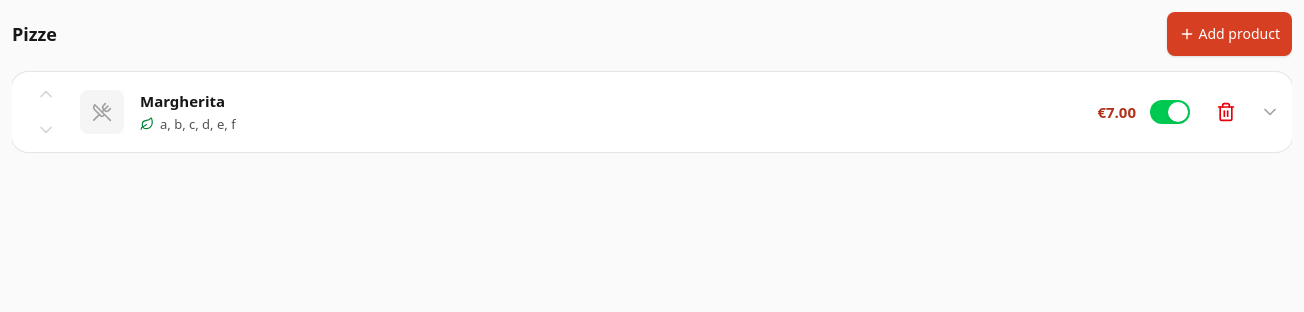
Test: ProductList › shows the full ingredients and cooking levels once expanded
Expected: the text "Margherita" is shown, [140,90,225,112]
Expected: the text "Ingredients" is not shown
Click the button "Margherita a, b, c, d, e, f".
click(183, 101)  # box [136,86,1085,138]
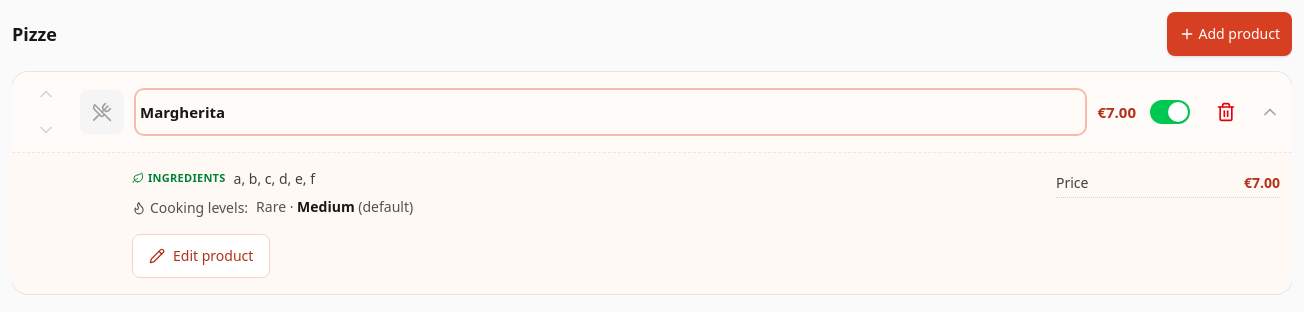
Now the text "Ingredients" is shown, box [132,170,226,186]
Now the text "Ingredients a, b, c, d, e, f" is shown once, box [132,169,315,188]
Now the text "Cooking levels:" is shown, box [132,198,248,218]
